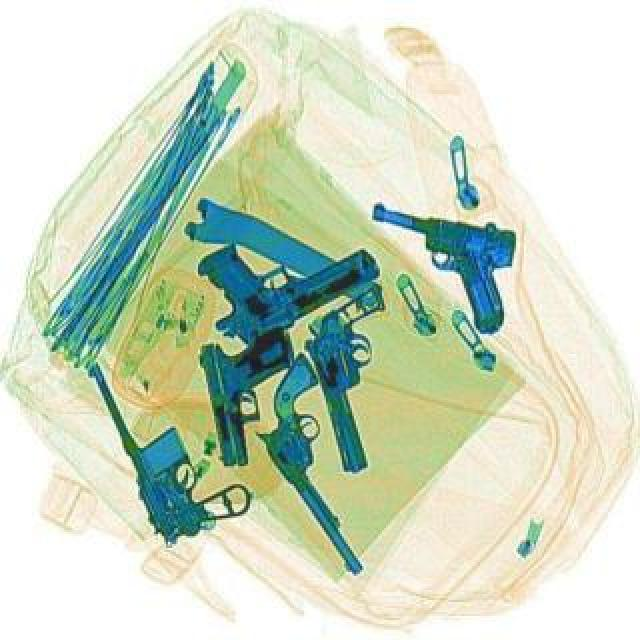gun: (222, 348, 430, 574), (82, 328, 258, 548), (176, 184, 384, 356), (294, 278, 430, 474), (346, 194, 528, 336), (196, 322, 308, 468)
